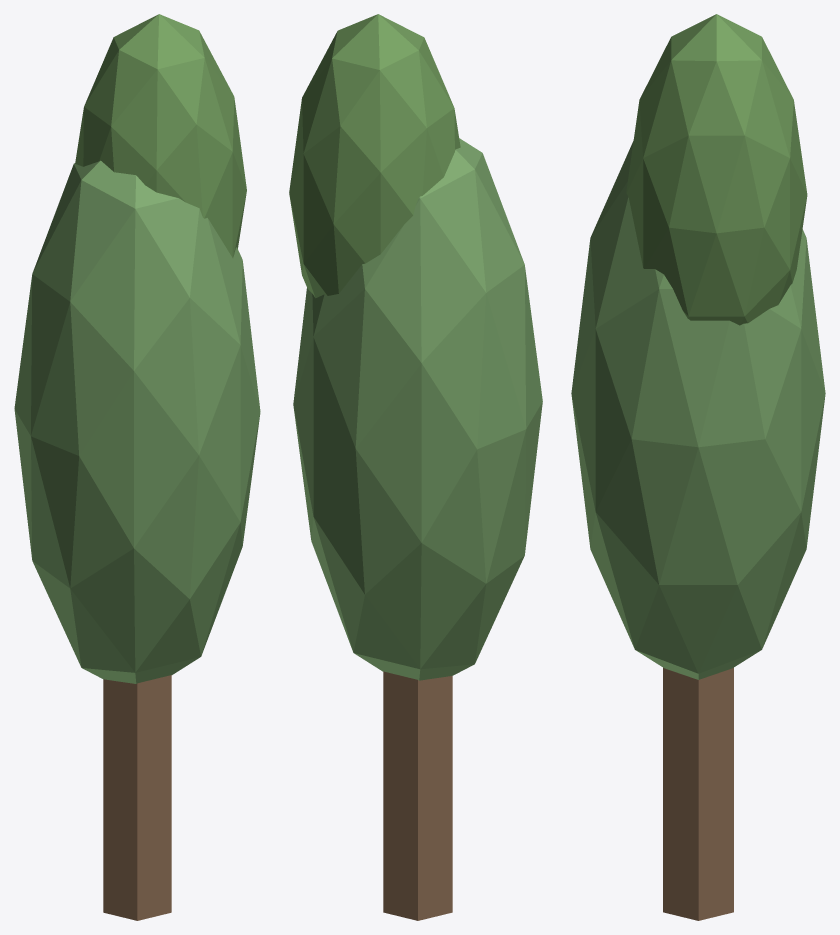
The model's file is tree_poplar.glb.
3 renders of one model, left to right at view 1: azimuth 30°, elevation 25°; view 2: azimuth 150°, elevation 25°; view 3: azimuth 270°, elevation 25°, orthographic. The views are drawn at different scales.
Visible parts, largest first — view 1: part_00; view 2: part_00; view 3: part_00.
Part boxes in pixels (left/top/right/bottom): part_00: left=14, top=14, right=260, bottom=920; part_00: left=289, top=14, right=542, bottom=920; part_00: left=571, top=14, right=825, bottom=920.
Size of the model in its own units: 0.28 by 1.1 by 0.28.
